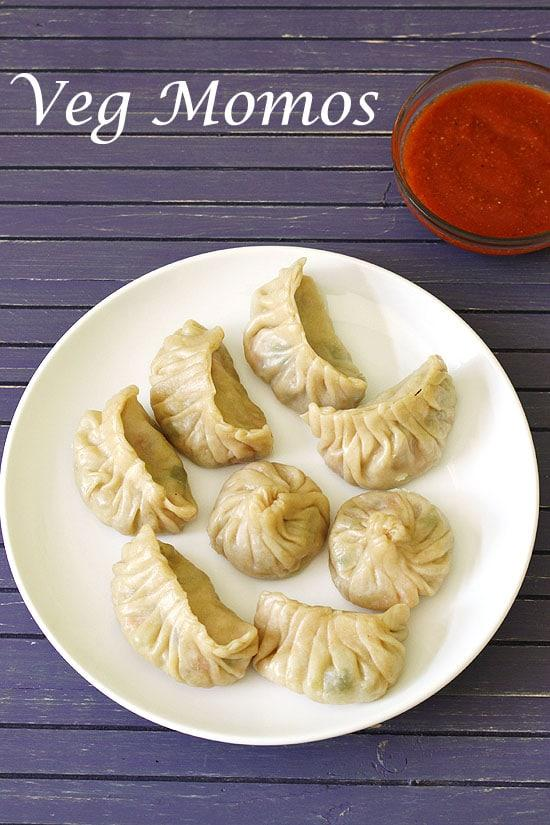momos: (111, 525, 258, 686), (303, 354, 458, 490), (243, 258, 367, 412), (74, 385, 198, 535), (151, 319, 272, 466), (253, 591, 409, 703), (329, 490, 454, 610), (208, 461, 330, 578)
